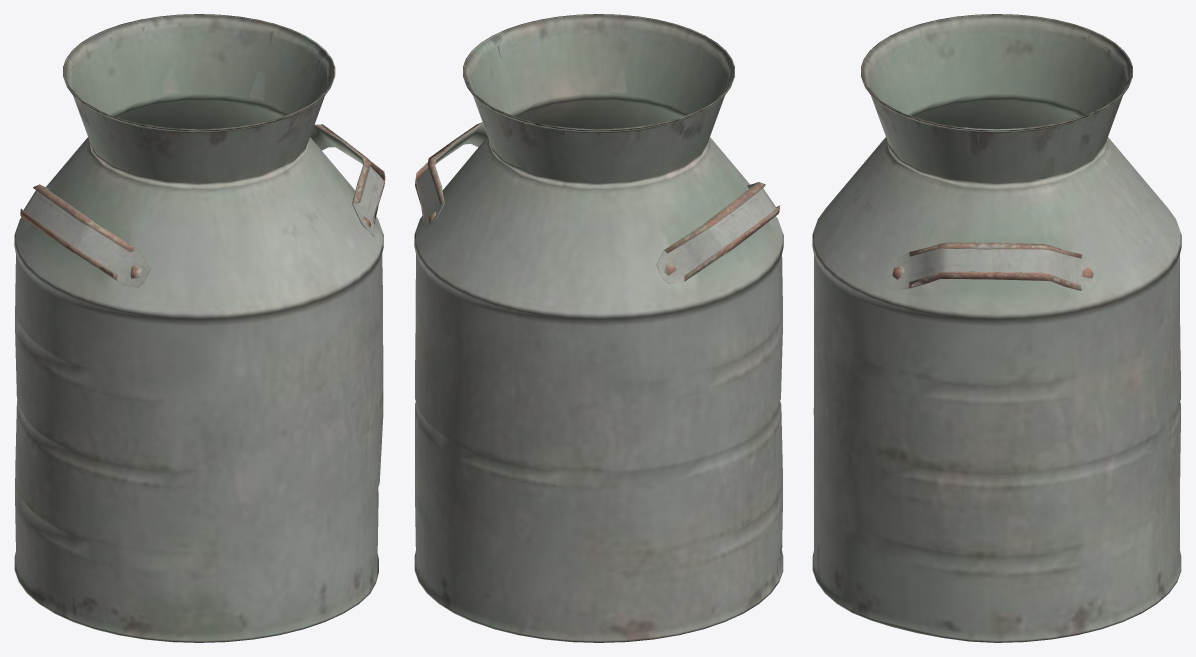
File: metal_jug.glb
3 renders of one model, left to right at view 1: azimuth 30°, elevation 25°; view 2: azimuth 150°, elevation 25°; view 3: azimuth 270°, elevation 25°, orthographic.
Parts seen in each view (by area): view 1: metal_jug; view 2: metal_jug; view 3: metal_jug.
Part boxes in pixels (left/top/right/bottom): metal_jug: left=14, top=14, right=385, bottom=642; metal_jug: left=414, top=14, right=783, bottom=642; metal_jug: left=812, top=14, right=1181, bottom=642.
Size of the model in its own units: 0.1966 by 0.2873 by 0.195.
Materials: 1 (1 with a texture image).
